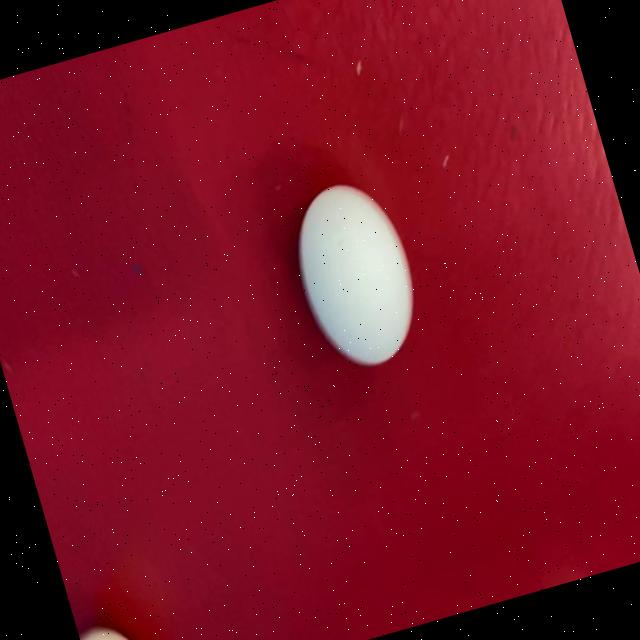ping-pong-ball: (258, 148, 453, 424), (67, 578, 178, 640)
